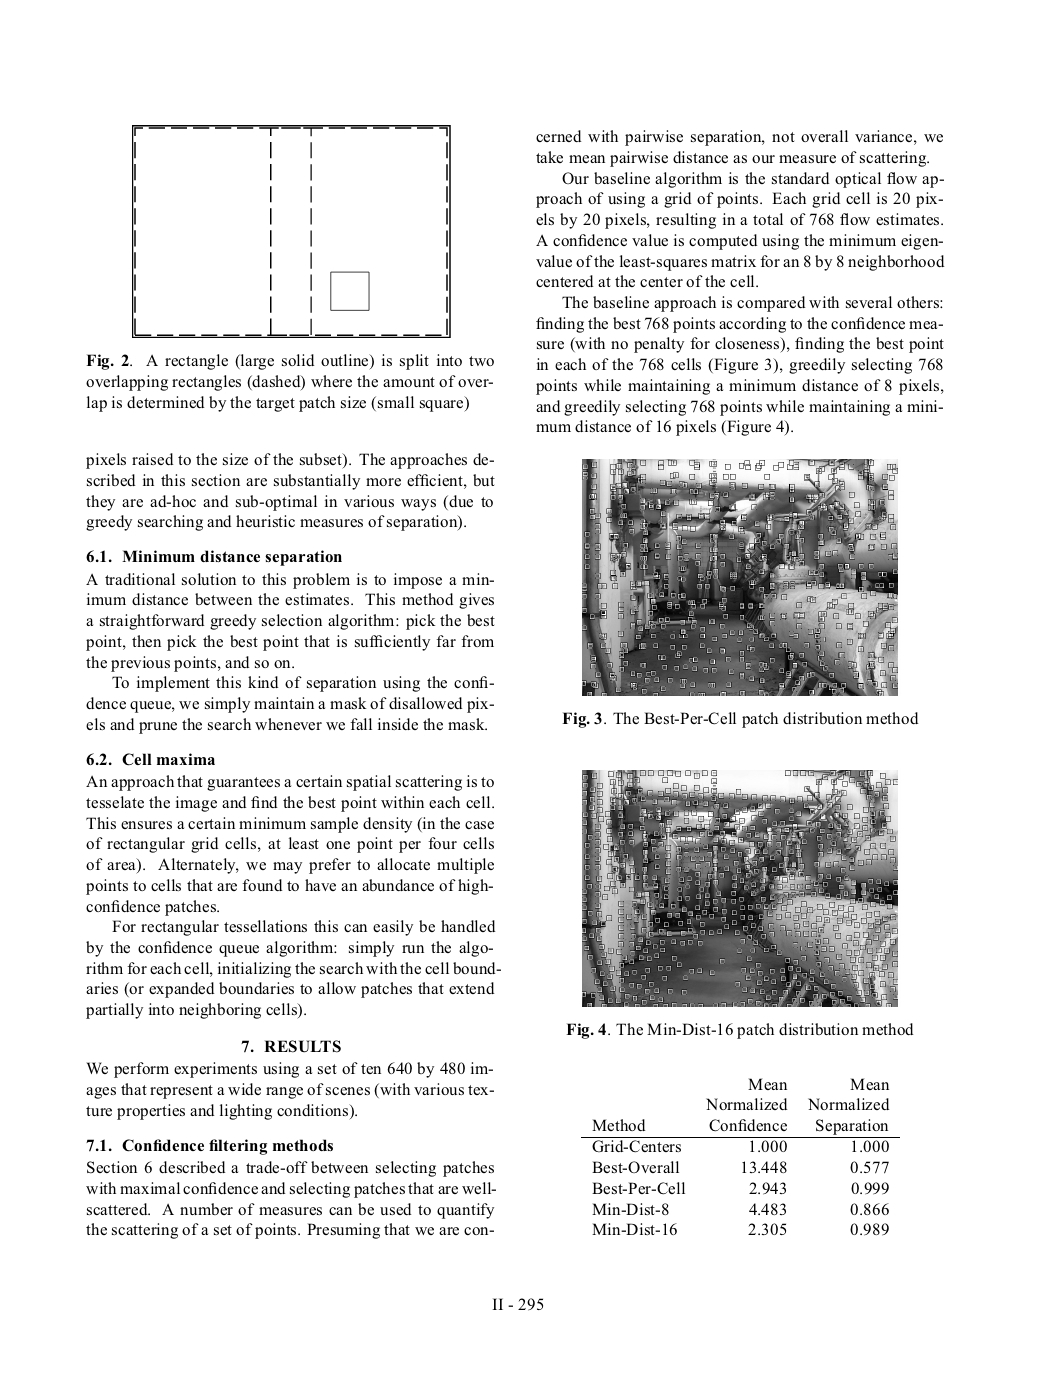Table: (581, 1078, 899, 1235)
figure: (582, 458, 897, 697), (582, 769, 897, 1007), (132, 124, 450, 338)
